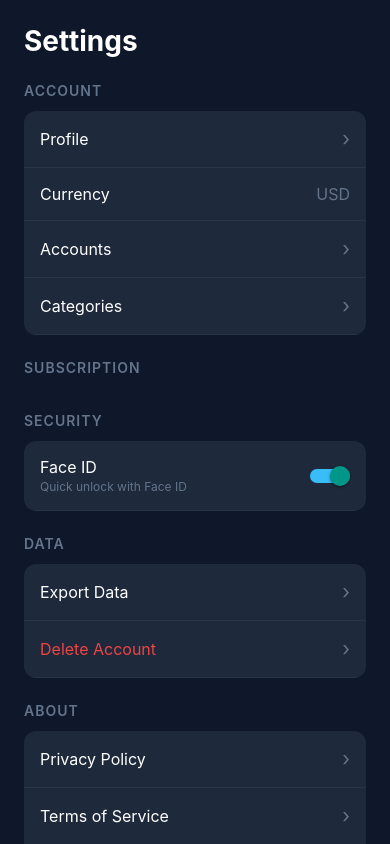
SettingsScreen › Biometric Toggle › shows error when disabling biometric fails
The width and height of the screenshot is (390, 844).
What coordinates should you click on to do the following:
click the switch with test id "biometric-switch"
I would click on:
 (330, 476)
Its box is [310, 466, 350, 486].
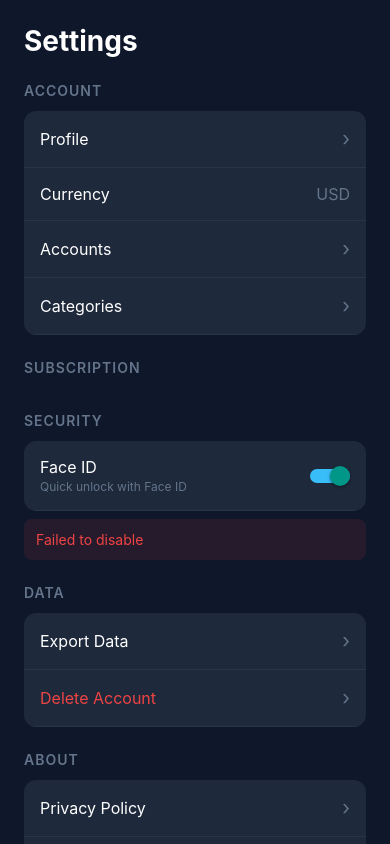
Result: the text "Failed to disable" is shown at [36, 531, 143, 548]
